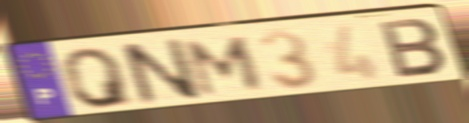3: (259, 26, 318, 93)
4: (331, 22, 383, 85)
B: (375, 16, 451, 80)
M: (183, 35, 266, 99)
N: (115, 35, 205, 108)
Q: (58, 45, 139, 111)
